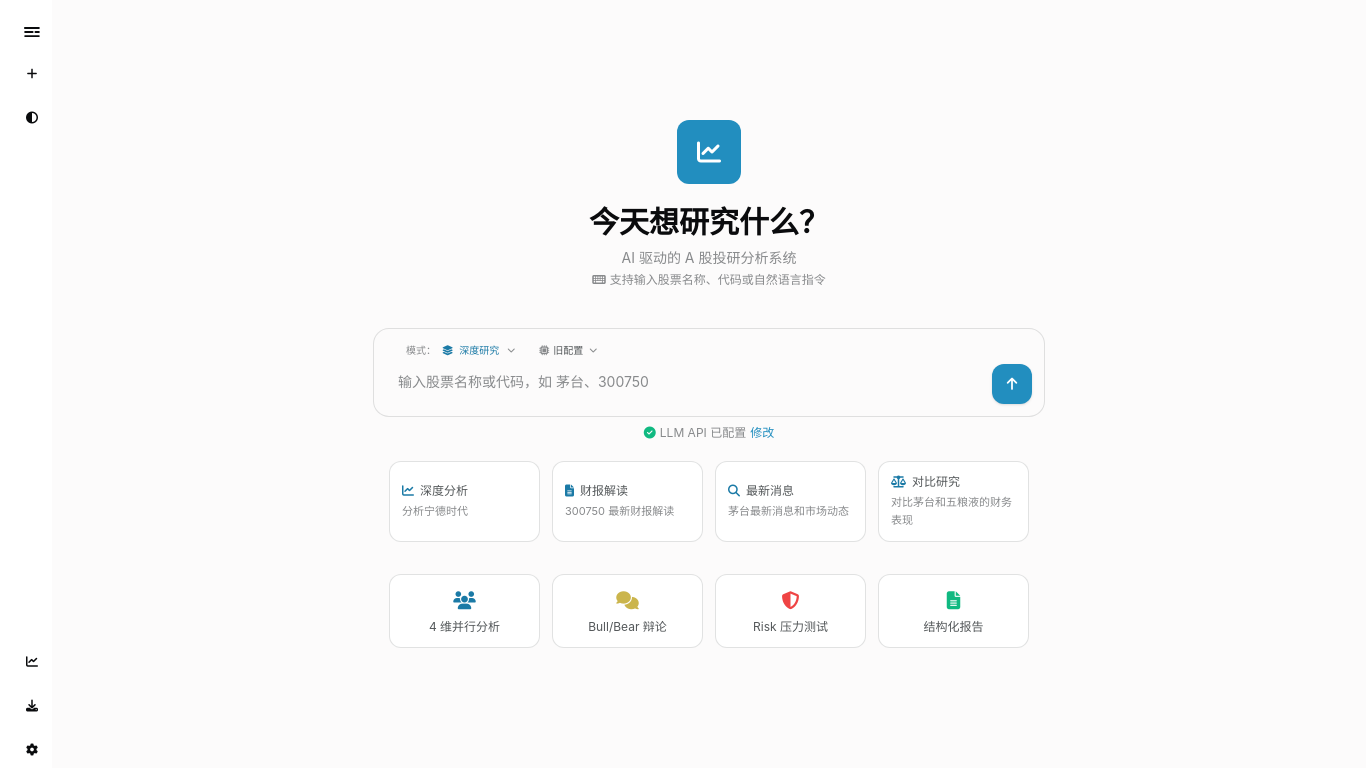
Test: 下载中心页面（add-download-center Task 2） › 侧边栏「下载管理」入口跳转 /downloads（展开态底部入口已移除，走折叠态图标栏）
Click the button with test id "sidebar-downloads-collapsed" at [32, 706], box [14,688,50,724]
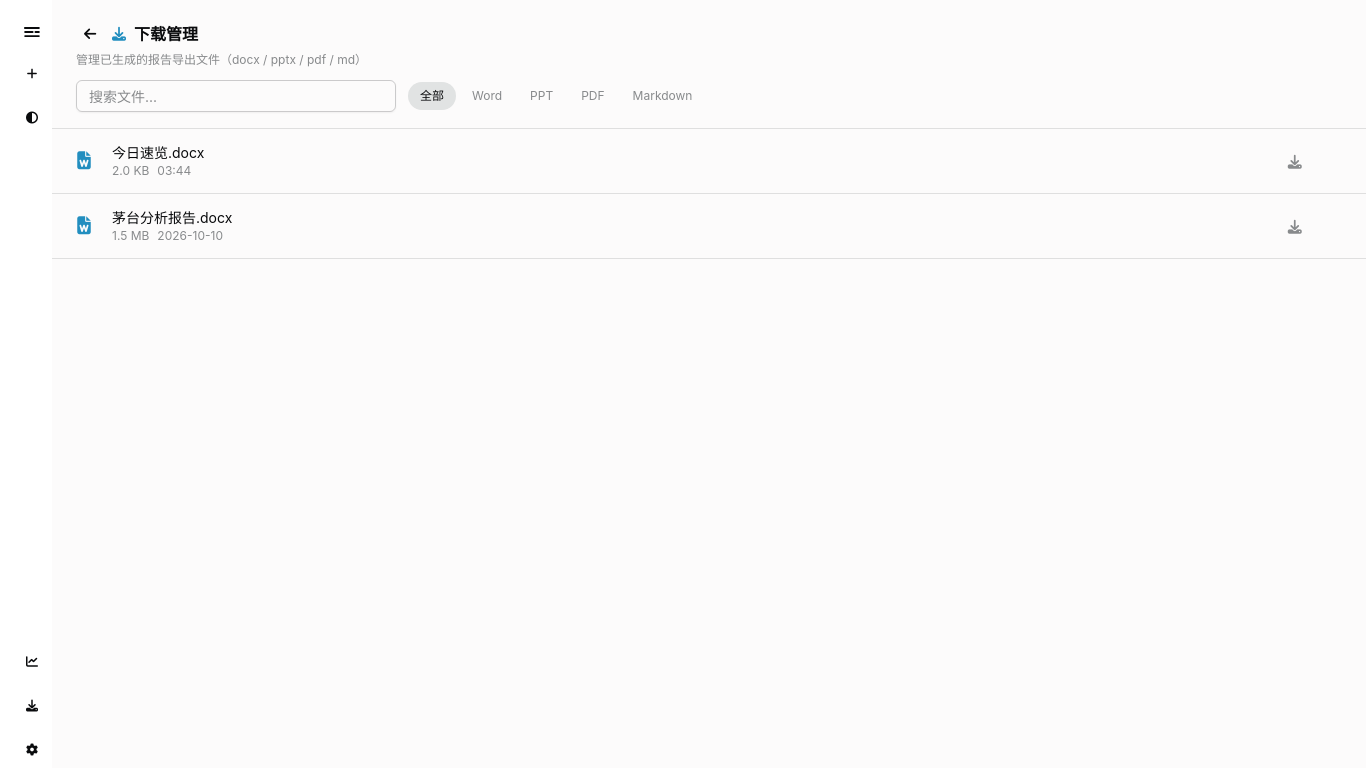
expect the number of list items with test id "download-row" is 2: met, box [52,129,1365,194]; [52,194,1365,259]
